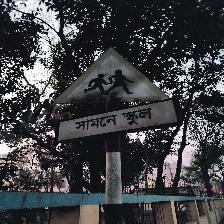School-in-front: (54, 46, 181, 143)
